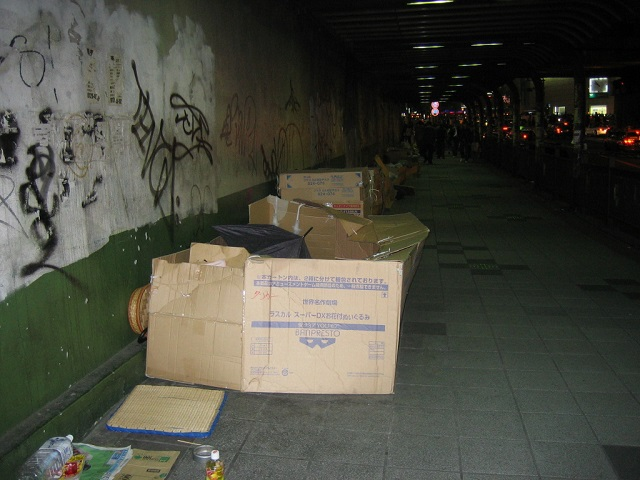bottle: (10, 433, 80, 480), (205, 448, 224, 480)
box: (151, 194, 430, 396)
